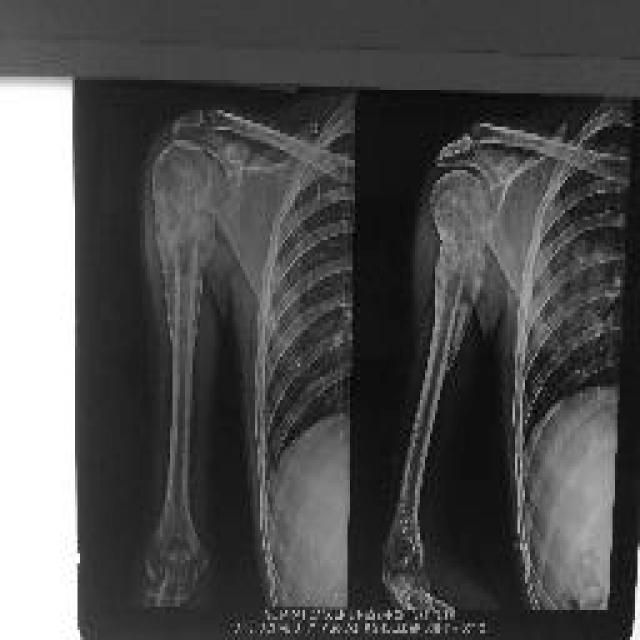bone-cancer: (152, 138, 219, 366), (431, 168, 485, 362)
